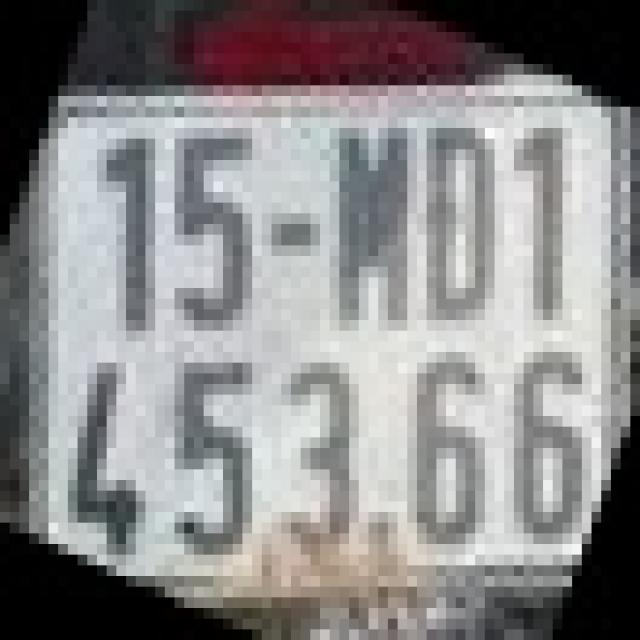1: (514, 128, 572, 320), (107, 138, 155, 330)
3: (281, 363, 359, 544)
4: (68, 352, 145, 555)
5: (175, 128, 252, 320), (175, 362, 252, 554)
6: (407, 352, 485, 544), (514, 352, 591, 533)
D: (426, 128, 494, 320)
M: (320, 123, 407, 325)
